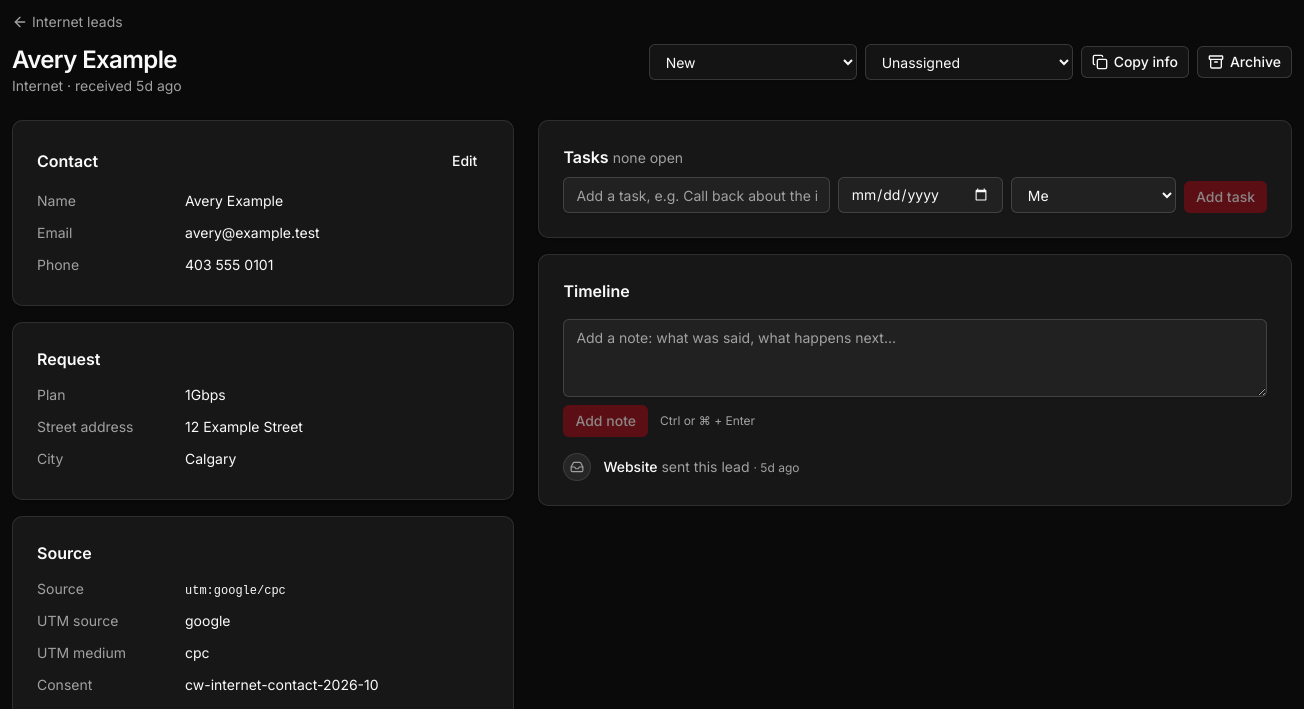
LeadRecord › archives the lead from the header and says so
Click the button "Archive": [1244, 62] box left=1197, top=46, right=1292, bottom=78
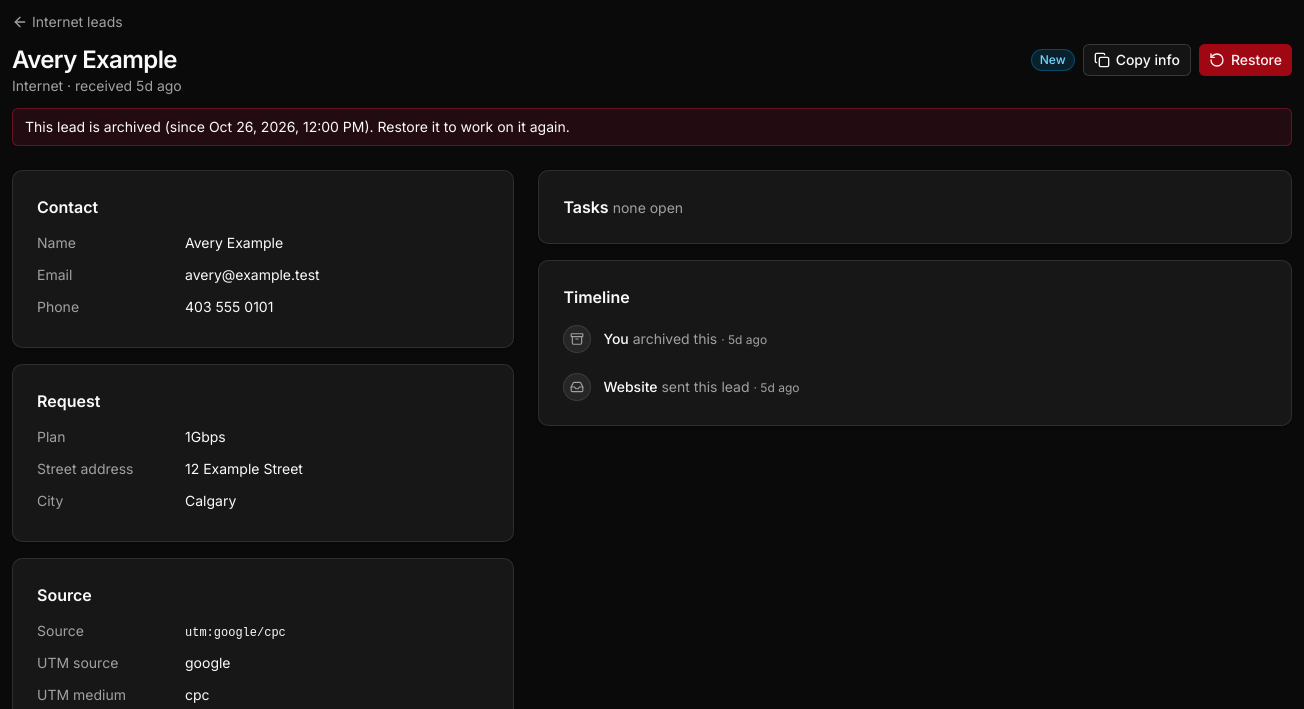
Expected: the text "This lead is archived (since" is shown, left=25, top=118, right=209, bottom=135
Expected: the text "archived this" is shown, left=633, top=330, right=717, bottom=347
